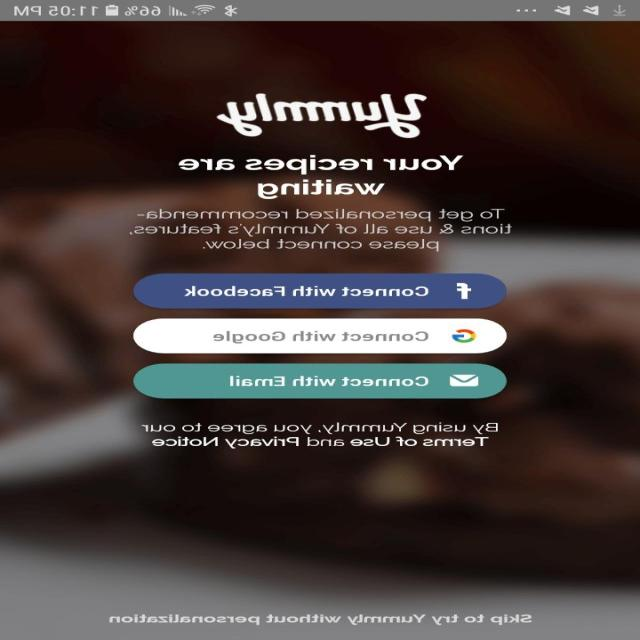BackgroundImage: (1, 21, 640, 639)
Image: (217, 93, 428, 139)
Text: (130, 208, 513, 252), (178, 154, 464, 199), (141, 422, 499, 448), (110, 613, 532, 625)
TextButton: (133, 272, 507, 308), (133, 363, 508, 398), (133, 318, 508, 353)
